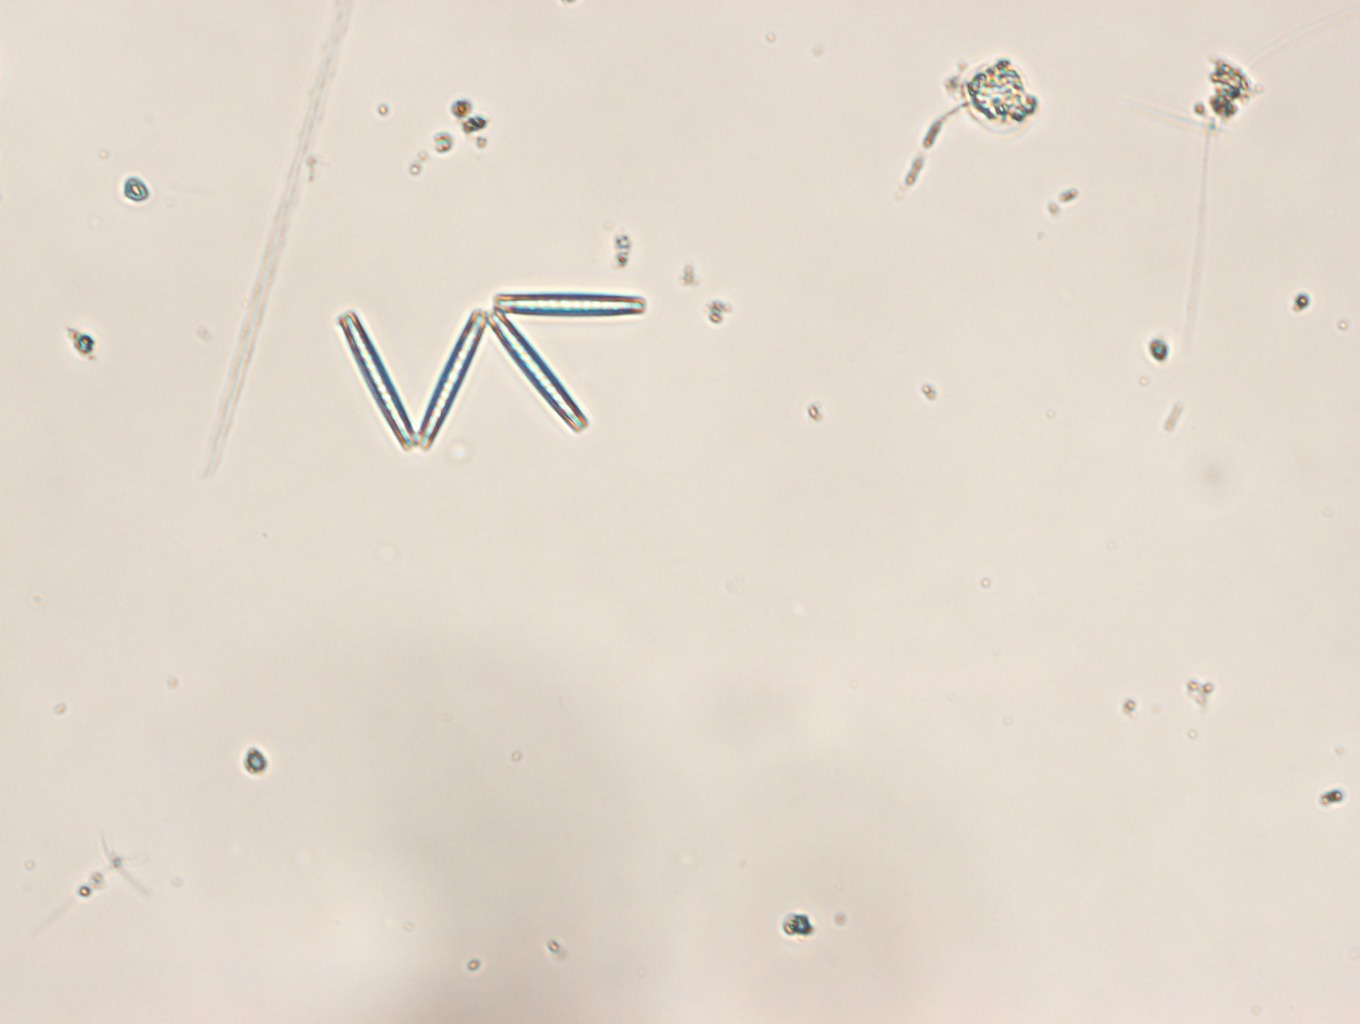thalassionema nitzschioides: (337, 293, 645, 450)
